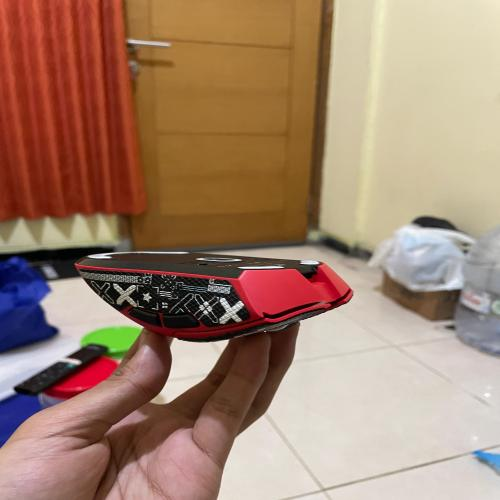mouse: (63, 238, 363, 348)
